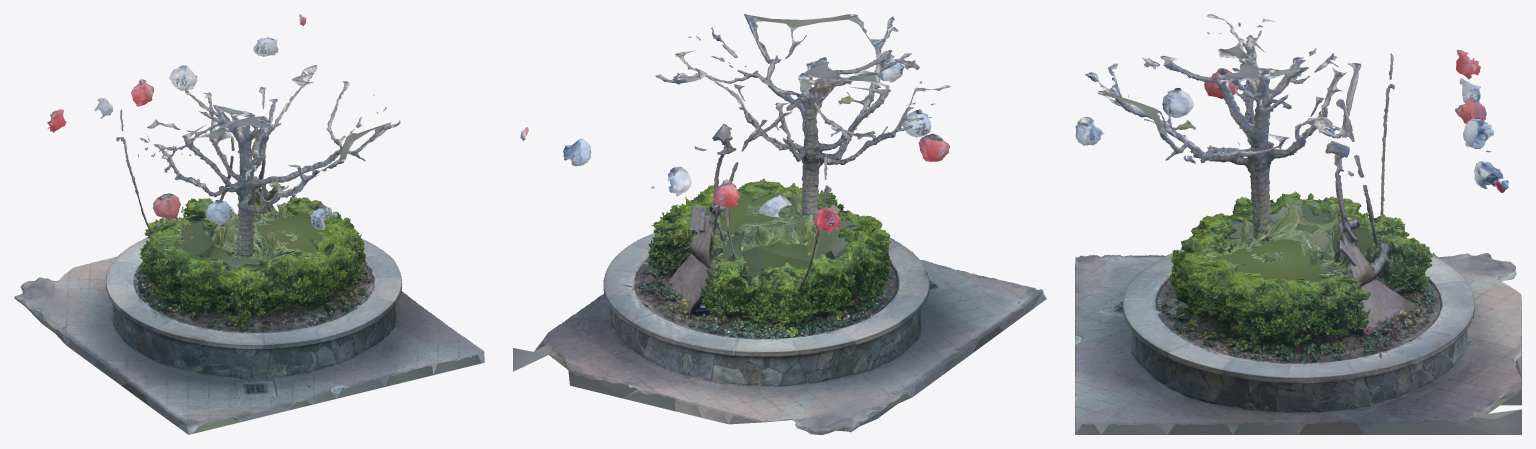
3 views of the same model, side by side, from view 1: azimuth 30°, elevation 25°; view 2: azimuth 150°, elevation 25°; view 3: azimuth 270°, elevation 25° (orthographic). The views are drawn at different scales.
Visible parts, largest first — view 1: Object_4, Object_7, Object_6, Object_8, Object_10, Object_9, Object_5, Object_11, Object_12; view 2: Object_7, Object_5, Object_4, Object_6, Object_8, Object_11, Object_10, Object_9, Object_12; view 3: Object_4, Object_5, Object_6, Object_10, Object_11, Object_7, Object_9, Object_12, Object_8.
Boxes of the visible parts, x1,y1,x2,y2 form: Object_4: (89, 90, 484, 419); Object_7: (14, 98, 288, 434); Object_6: (113, 40, 465, 410); Object_8: (23, 119, 290, 434); Object_10: (131, 21, 484, 404); Object_9: (51, 87, 481, 409); Object_5: (43, 14, 424, 367); Object_11: (142, 48, 479, 379); Object_12: (228, 39, 431, 334); Object_7: (720, 51, 1046, 434); Object_5: (513, 14, 873, 423); Object_4: (603, 27, 1010, 431); Object_6: (535, 57, 973, 398); Object_8: (775, 84, 1046, 430); Object_11: (568, 27, 904, 378); Object_10: (563, 16, 925, 410); Object_9: (562, 14, 959, 396); Object_12: (576, 75, 890, 290); Object_4: (1075, 48, 1521, 434); Object_5: (1103, 93, 1521, 434); Object_6: (1075, 53, 1515, 434); Object_10: (1075, 70, 1521, 434); Object_11: (1075, 64, 1494, 434); Object_7: (1075, 14, 1521, 318); Object_9: (1075, 26, 1521, 426); Object_12: (1085, 121, 1492, 420); Object_8: (1094, 61, 1502, 321).
Size of the model in its own units: 5.57 by 4.09 by 6.16.
Materials: 1 (1 with a texture image).
